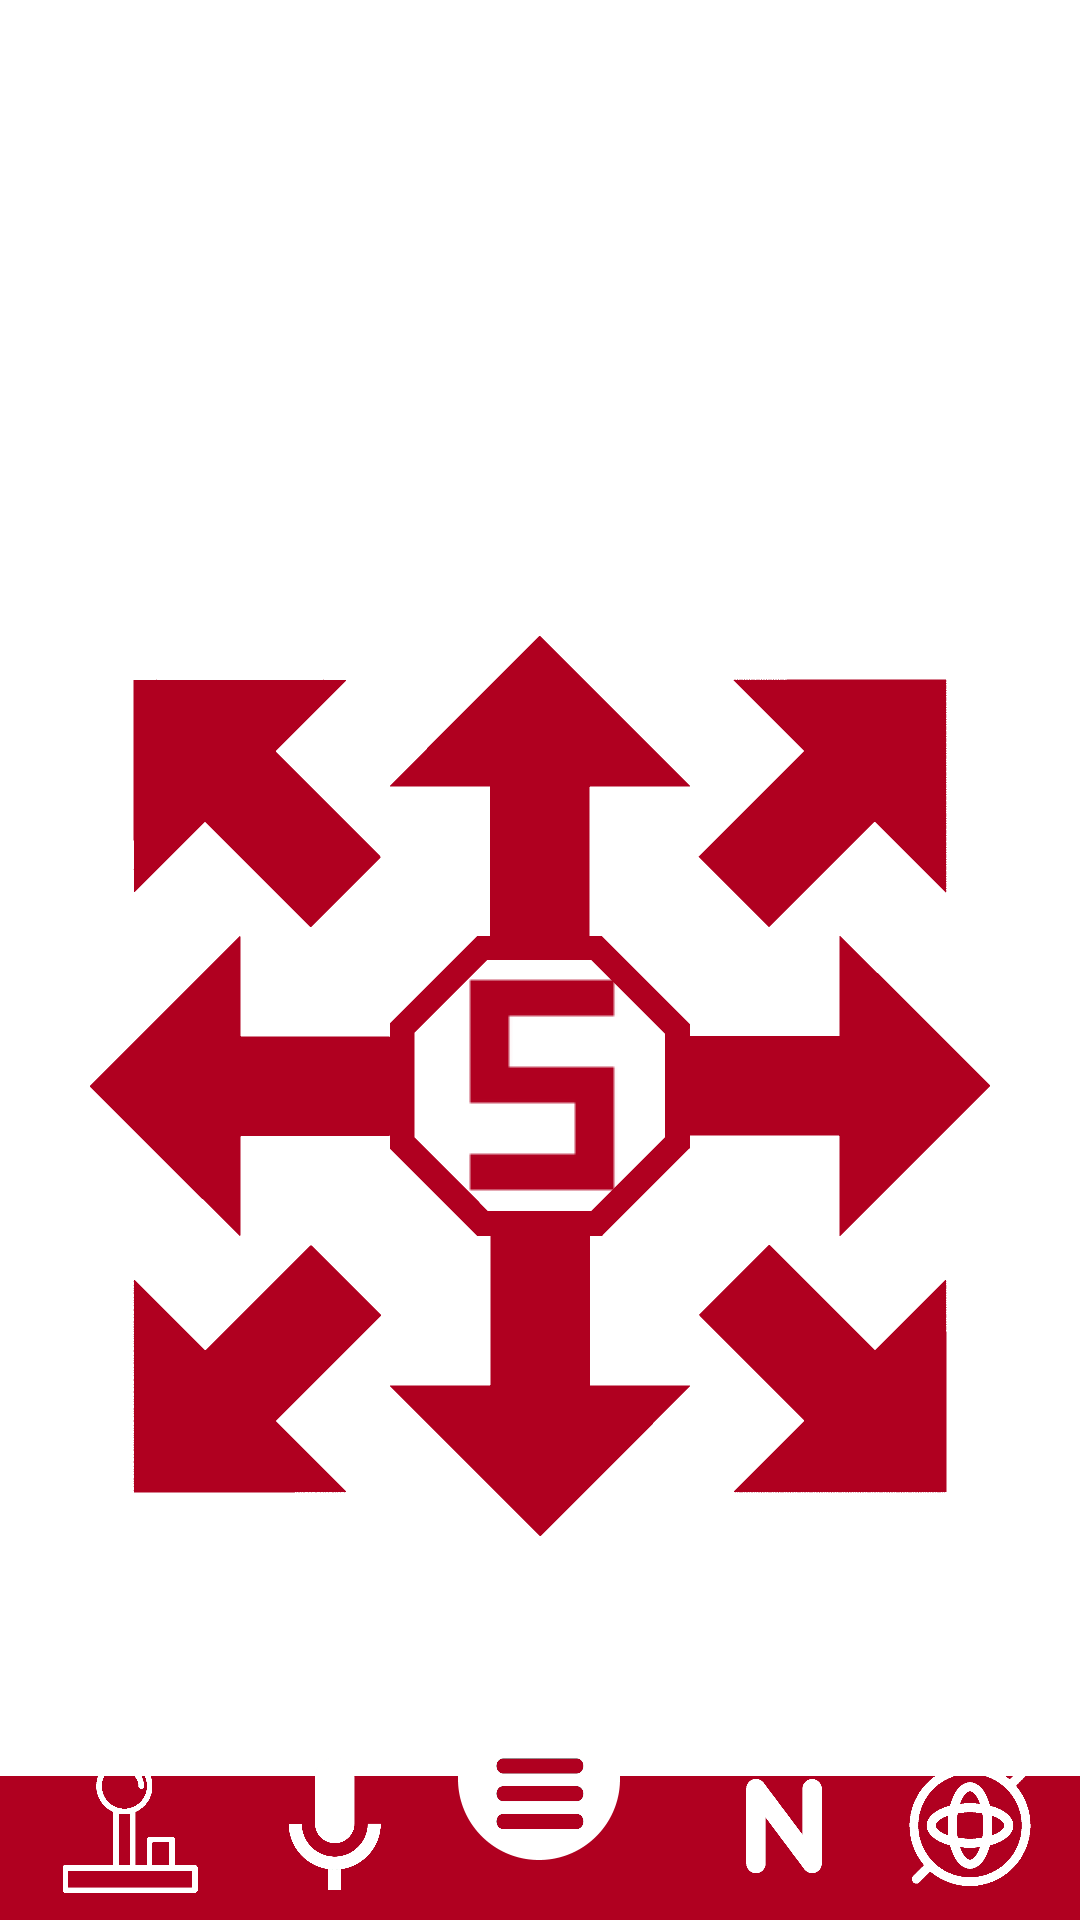

Icon bounding boxes for this 1080 x 1920 phone screenshot, format (x1, y1, x2, y2):
icogyrowhite: (895, 1758, 1045, 1886)
icojoystickwhite: (55, 1758, 205, 1893)
icomenured: (496, 1758, 584, 1829)
icomicwhite: (259, 1756, 409, 1890)
iconormalwhite: (746, 1779, 822, 1873)
